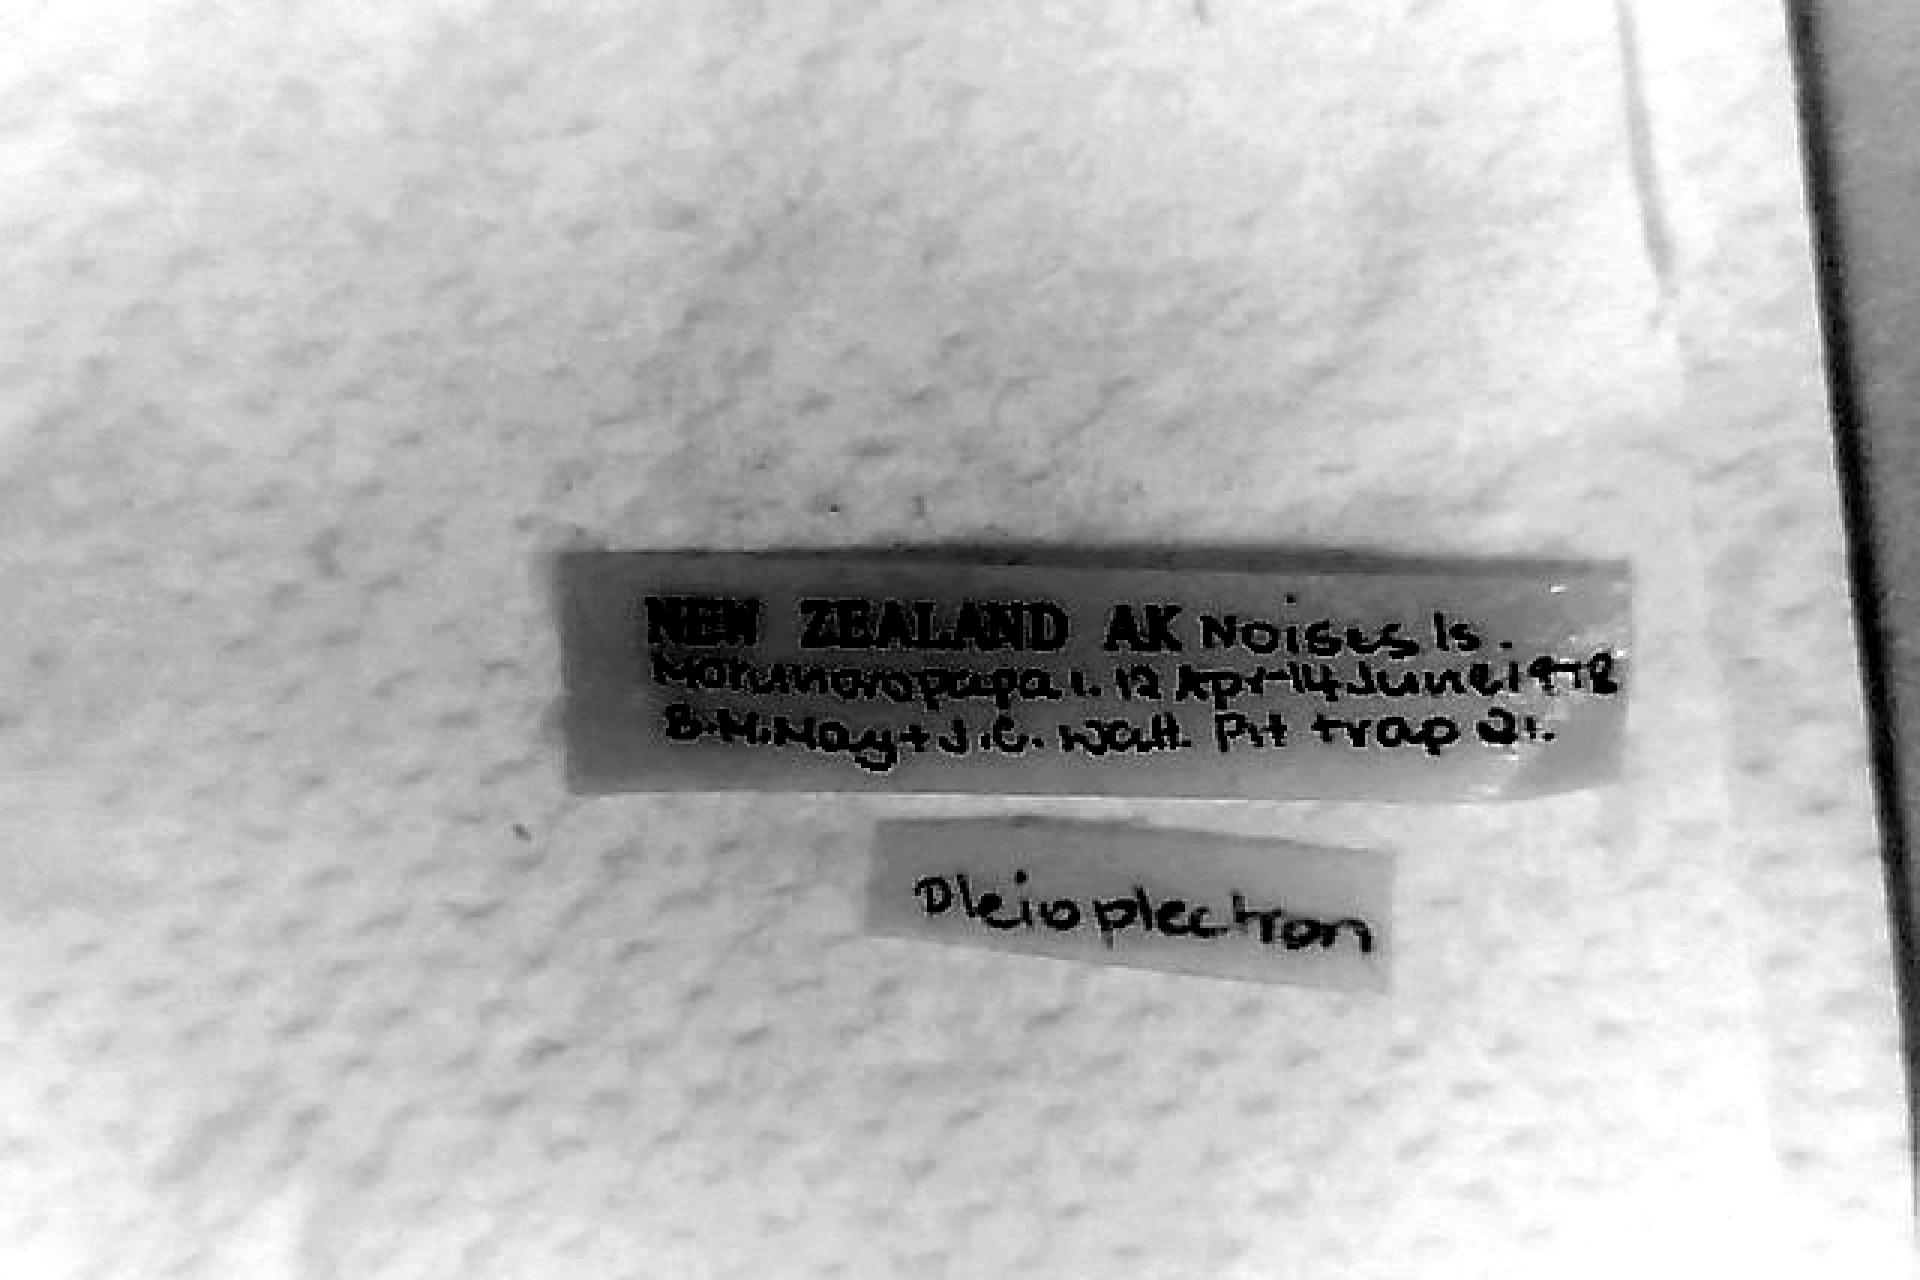hand_label: (871, 820, 1390, 989)
mixed_label: (559, 550, 1631, 799)
